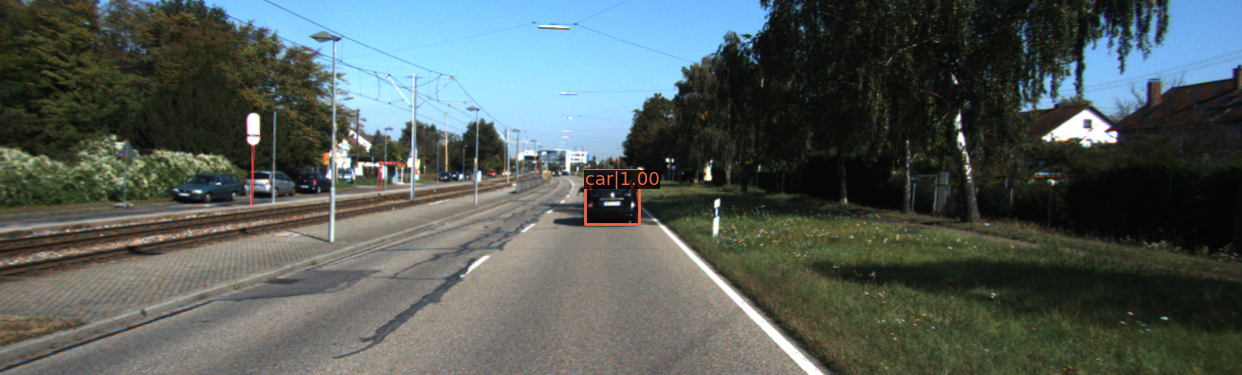car: (586, 172, 641, 227), (175, 174, 244, 206), (243, 171, 299, 200), (296, 173, 335, 195)
